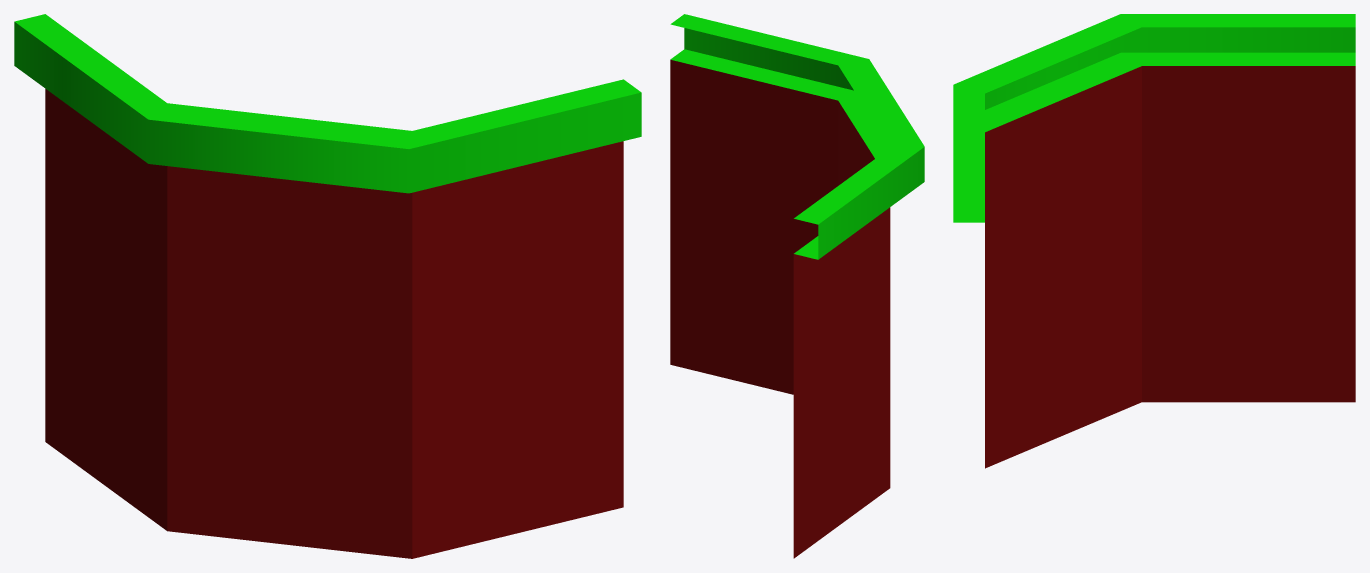
Rendered from Wall_Corner.fbx.
3 renders of one model, left to right at view 1: azimuth 30°, elevation 25°; view 2: azimuth 150°, elevation 25°; view 3: azimuth 270°, elevation 25°, orthographic. The views are drawn at different scales.
Parts seen in each view (by area): view 1: Build_1_Wall_Corner; view 2: Build_1_Wall_Corner; view 3: Build_1_Wall_Corner.
Part boxes in pixels (x1,y1,x2,y2): Build_1_Wall_Corner: [14, 14, 641, 558]; Build_1_Wall_Corner: [670, 14, 924, 558]; Build_1_Wall_Corner: [953, 14, 1355, 468].
Size of the model in its own units: 282 by 282 by 290.
